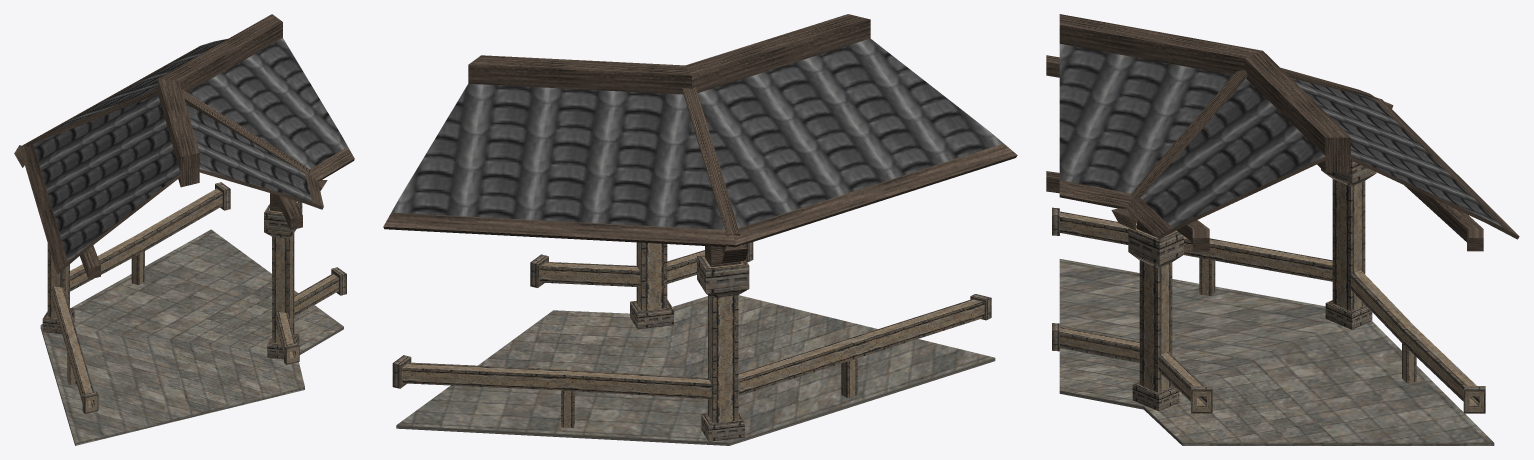
Rendered from corredorjpcurva-b3.fbx.
3 renders of one model, left to right at view 1: azimuth 30°, elevation 25°; view 2: azimuth 150°, elevation 25°; view 3: azimuth 270°, elevation 25°, orthographic. The views are drawn at different scales.
Parts seen in each view (by area): view 1: Cube.001; view 2: Cube.001; view 3: Cube.001.
Boxes of the visible parts, x1,y1,x2,y2 form: Cube.001: (14,14,354,445); Cube.001: (383,14,1017,445); Cube.001: (1046,14,1519,445).
Size of the model in its own units: 4.21 by 3.08 by 4.24.
